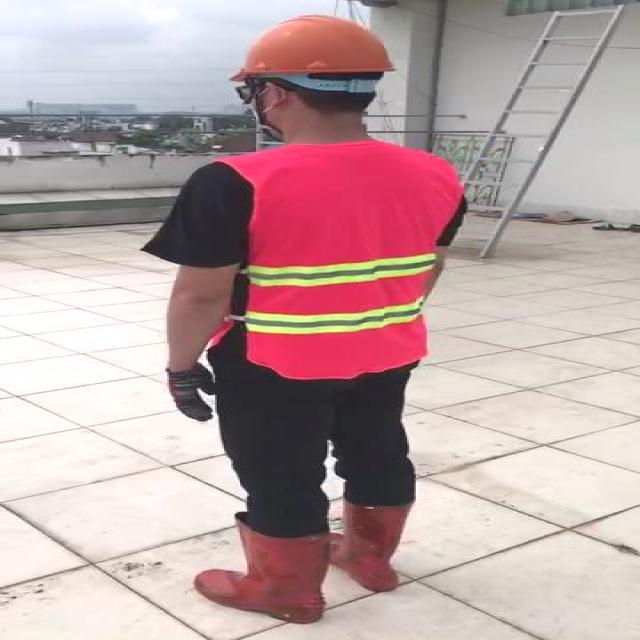boots: (194, 517, 327, 624), (329, 498, 418, 593)
hand_glove: (167, 366, 221, 423)
head_helmet: (229, 12, 391, 82)
person: (145, 9, 468, 622)
vest: (217, 144, 464, 379)
